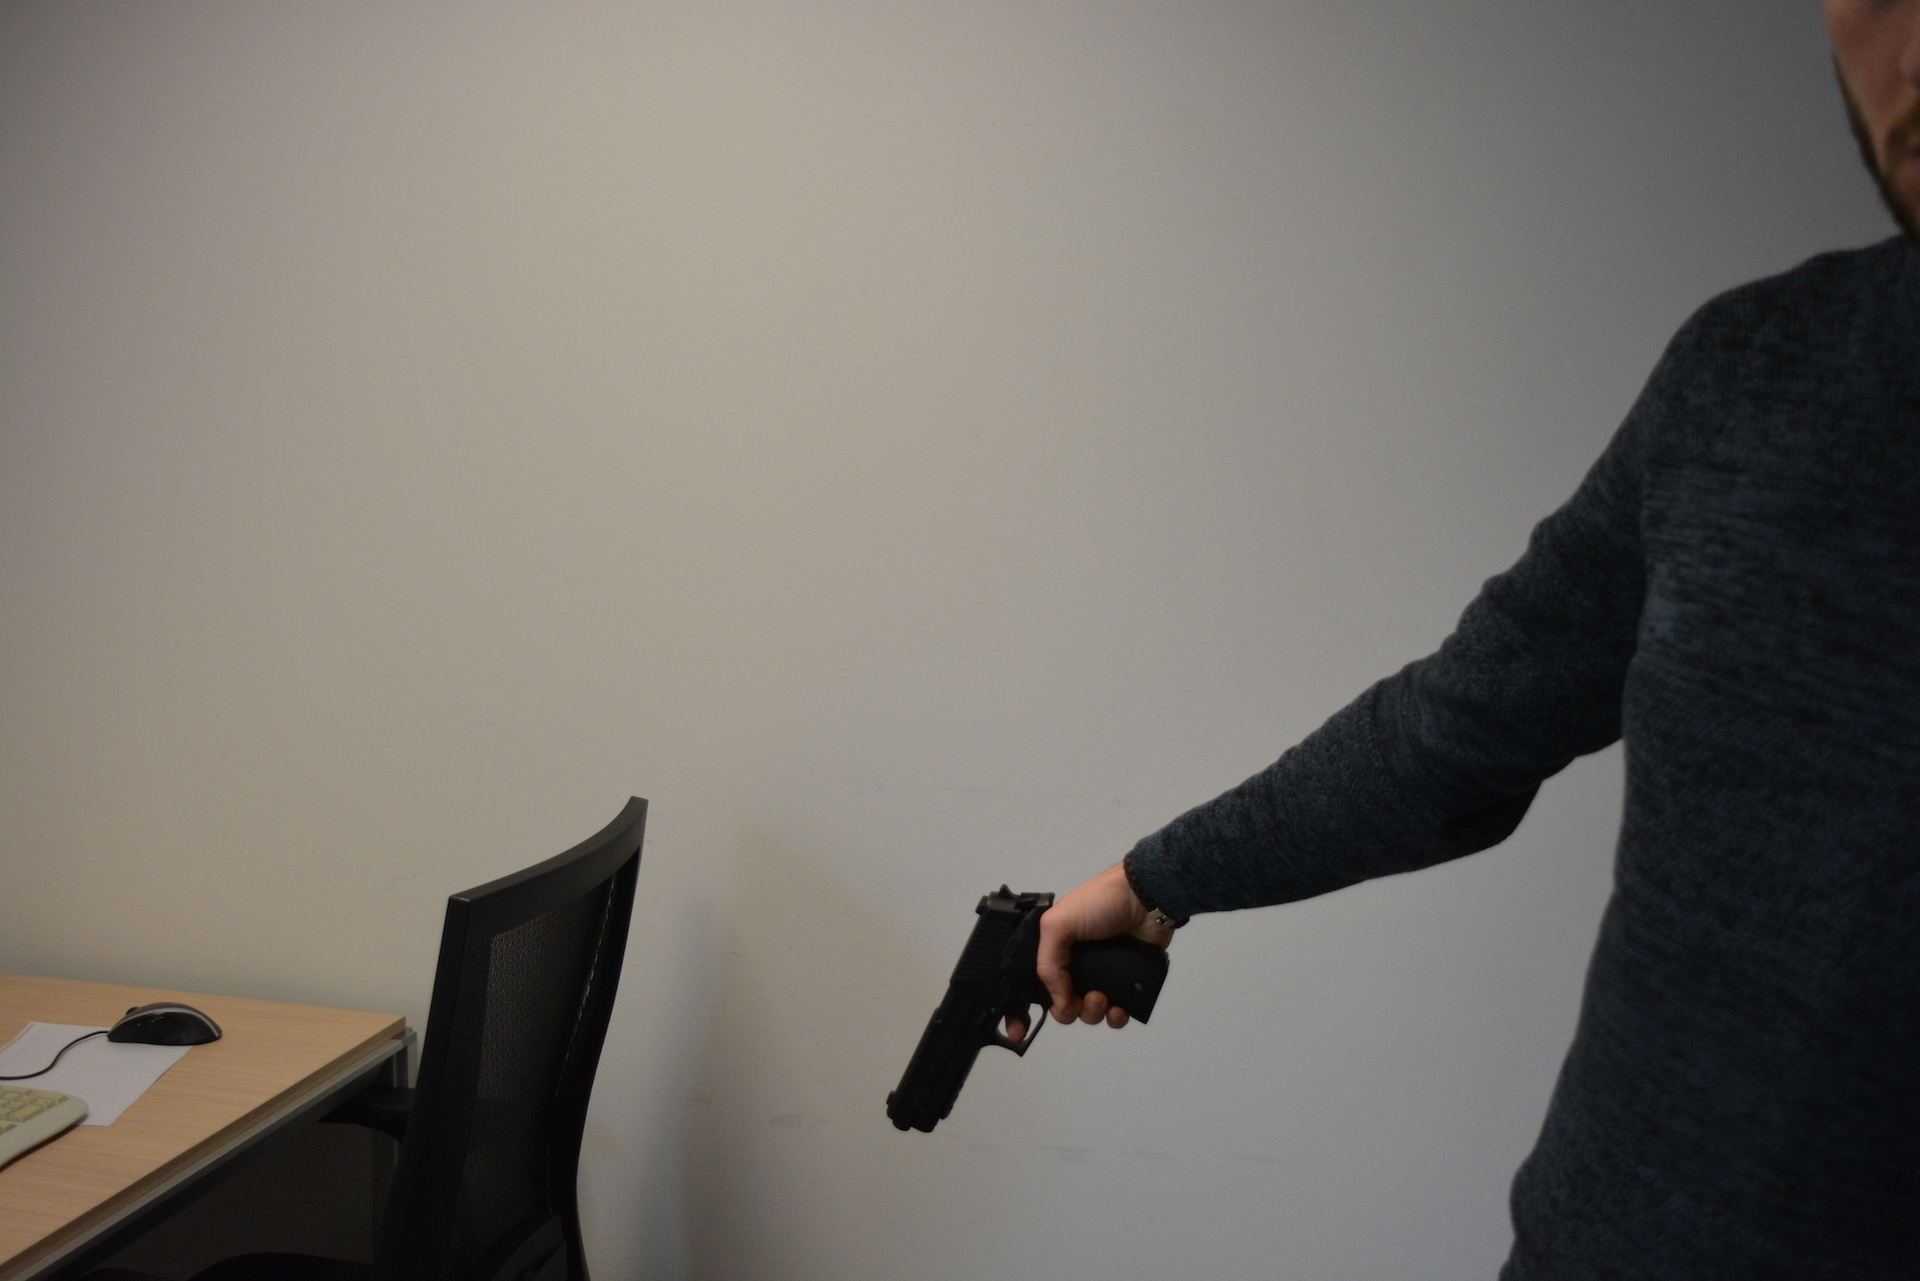pistol: (885, 882, 1172, 1134)
